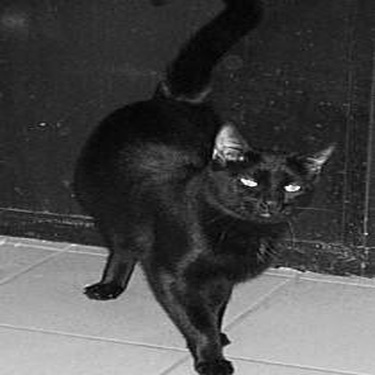cat: (78, 6, 336, 373)
